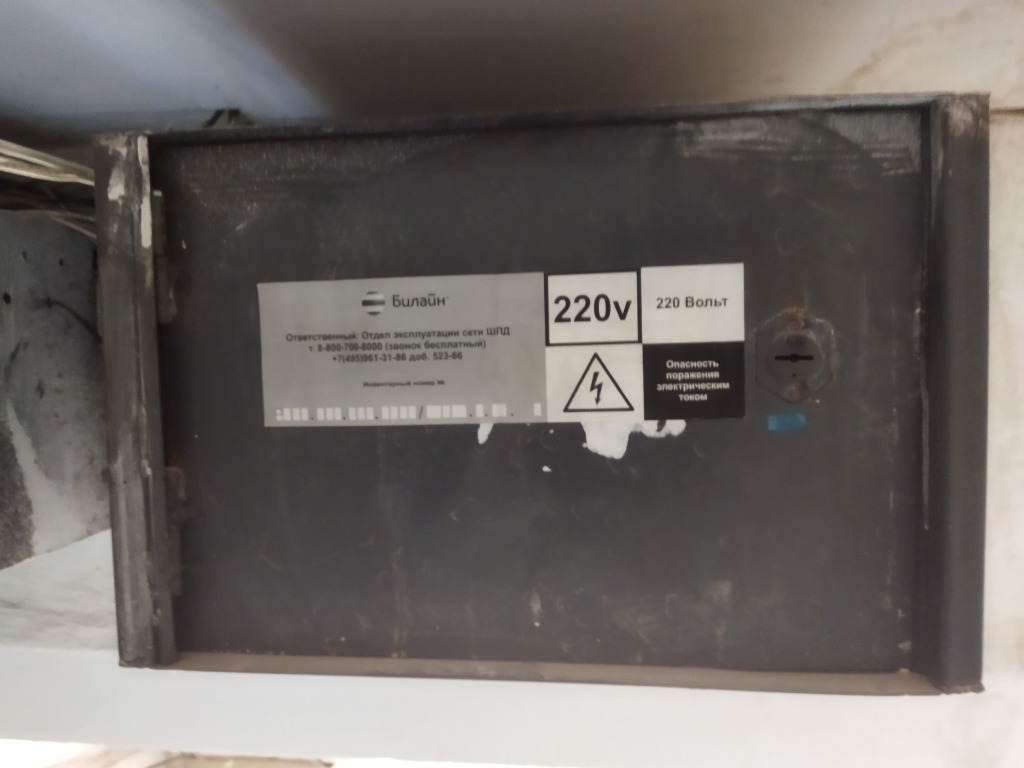e2-6u: (82, 77, 995, 700)
